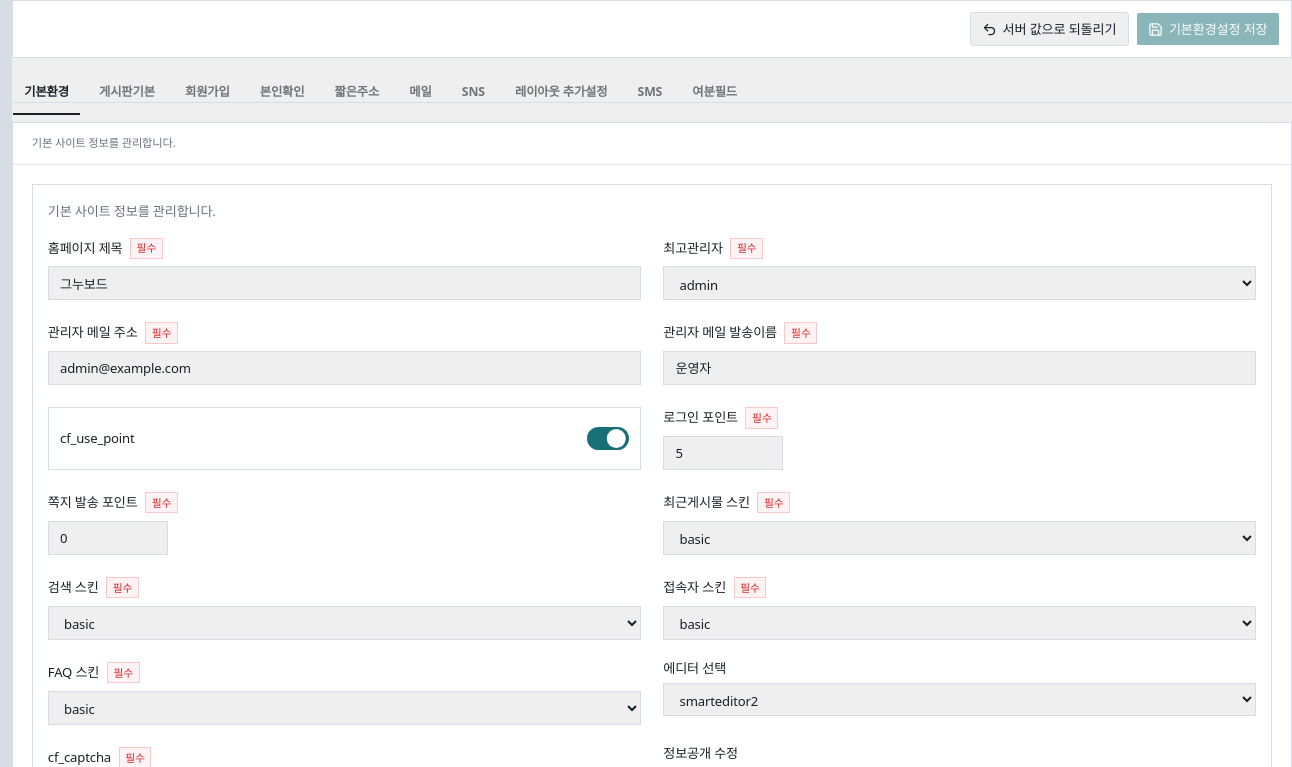
Test: AdminConfigPage validation › blocks submit when a required numeric schema field is blank
Clear the number field labelled "로그인 포인트" at (723, 453), box [663,436,783,470]
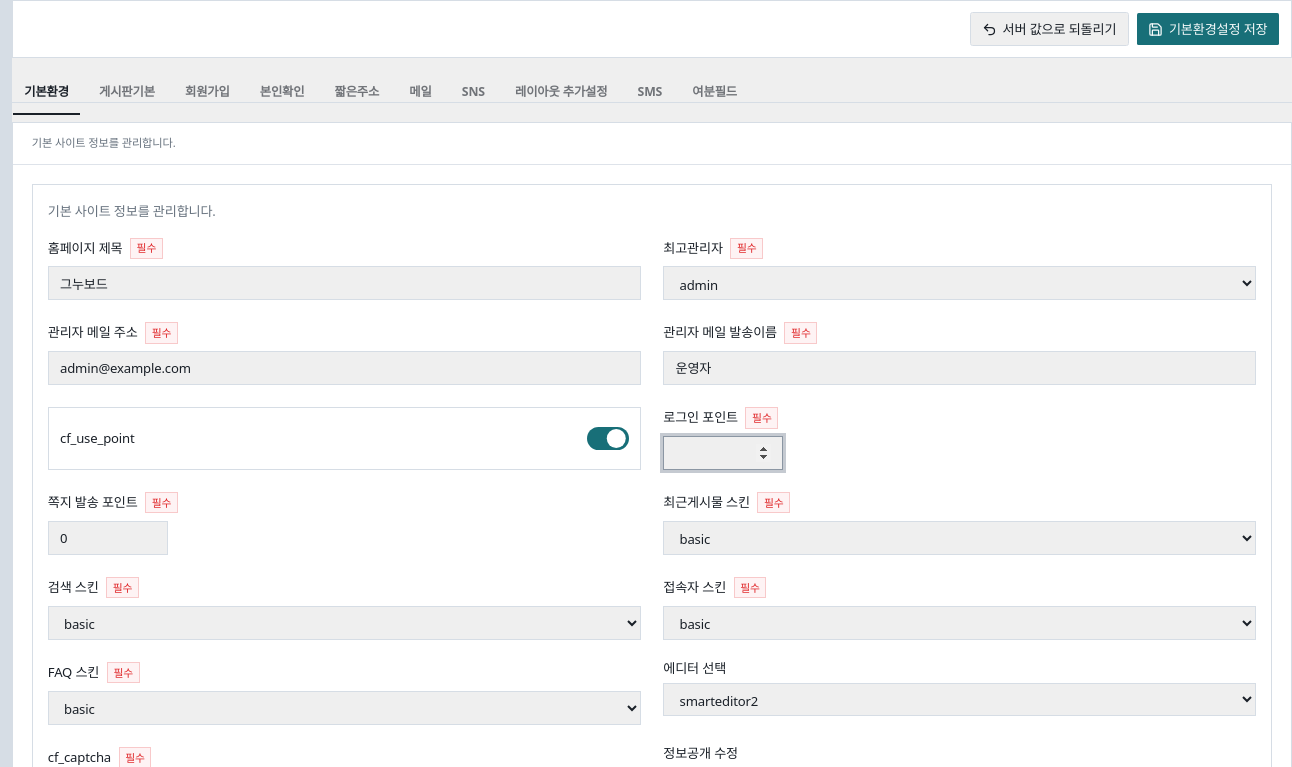
Click the button "기본환경설정 저장" at (1208, 29), box [1136,12,1280,46]
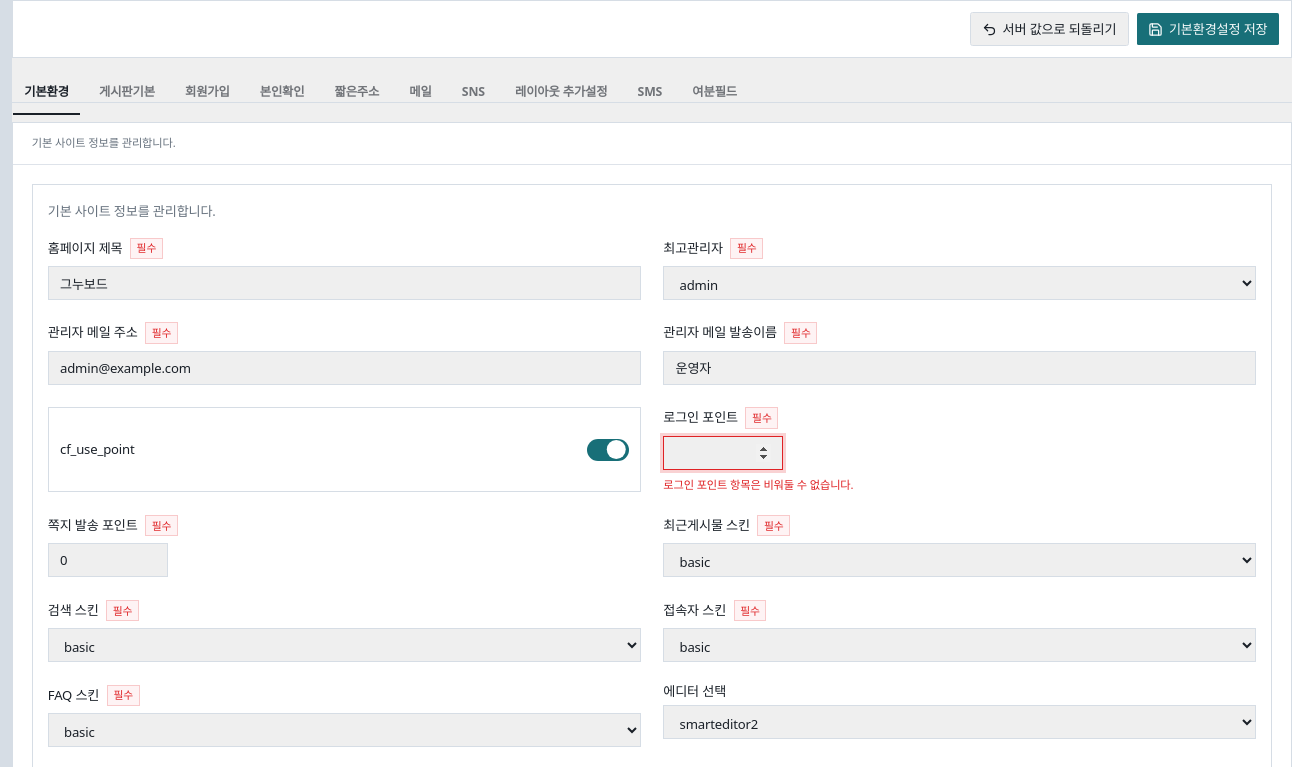
Expected: the text "로그인 포인트 항목은 비워둘 수 없습니다." is shown, [663,477,853,492]
